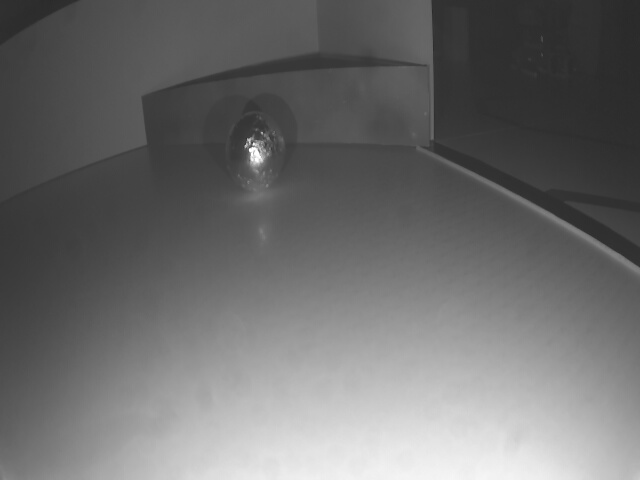Green: (140, 66, 429, 151)
Live: (223, 113, 290, 192)
